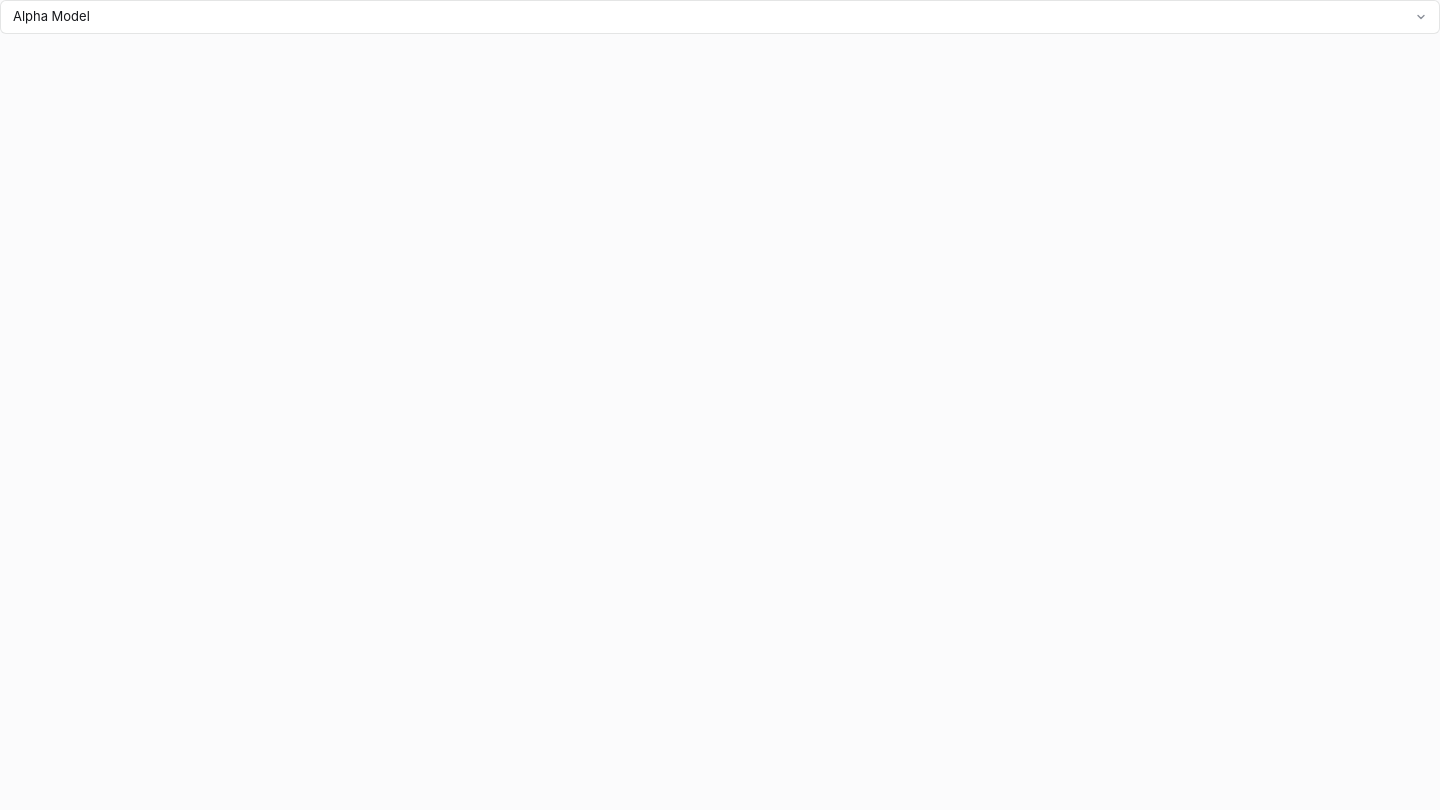
Test case: KilnSelect in-DOM dropdown › opens on click, selects an option, and closes without native select
Click the dropdown named "主模型选择". click: (51, 16)
box: [0, 0, 1439, 34]
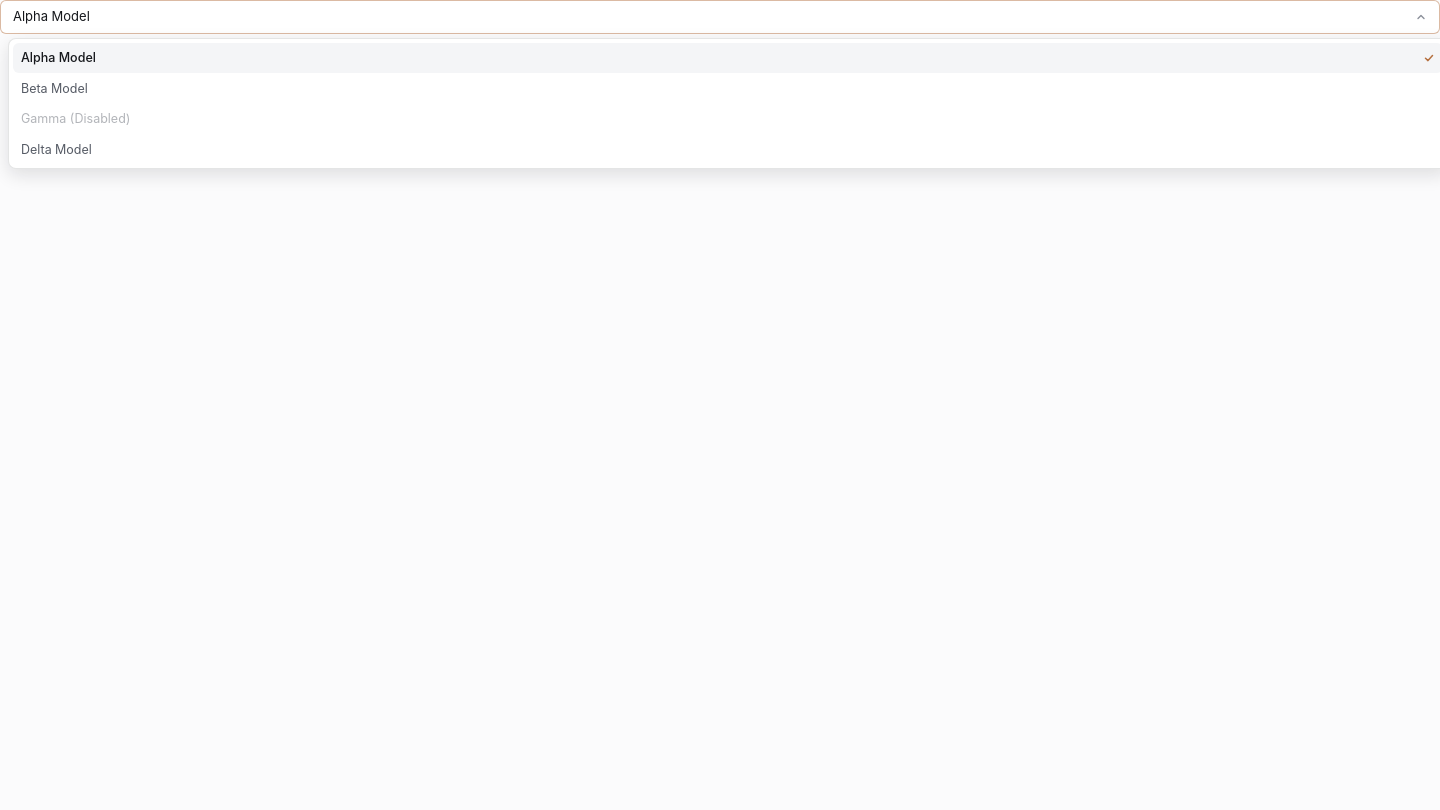
Click the option "Delta Model". click: (56, 149)
box: [13, 134, 1439, 164]
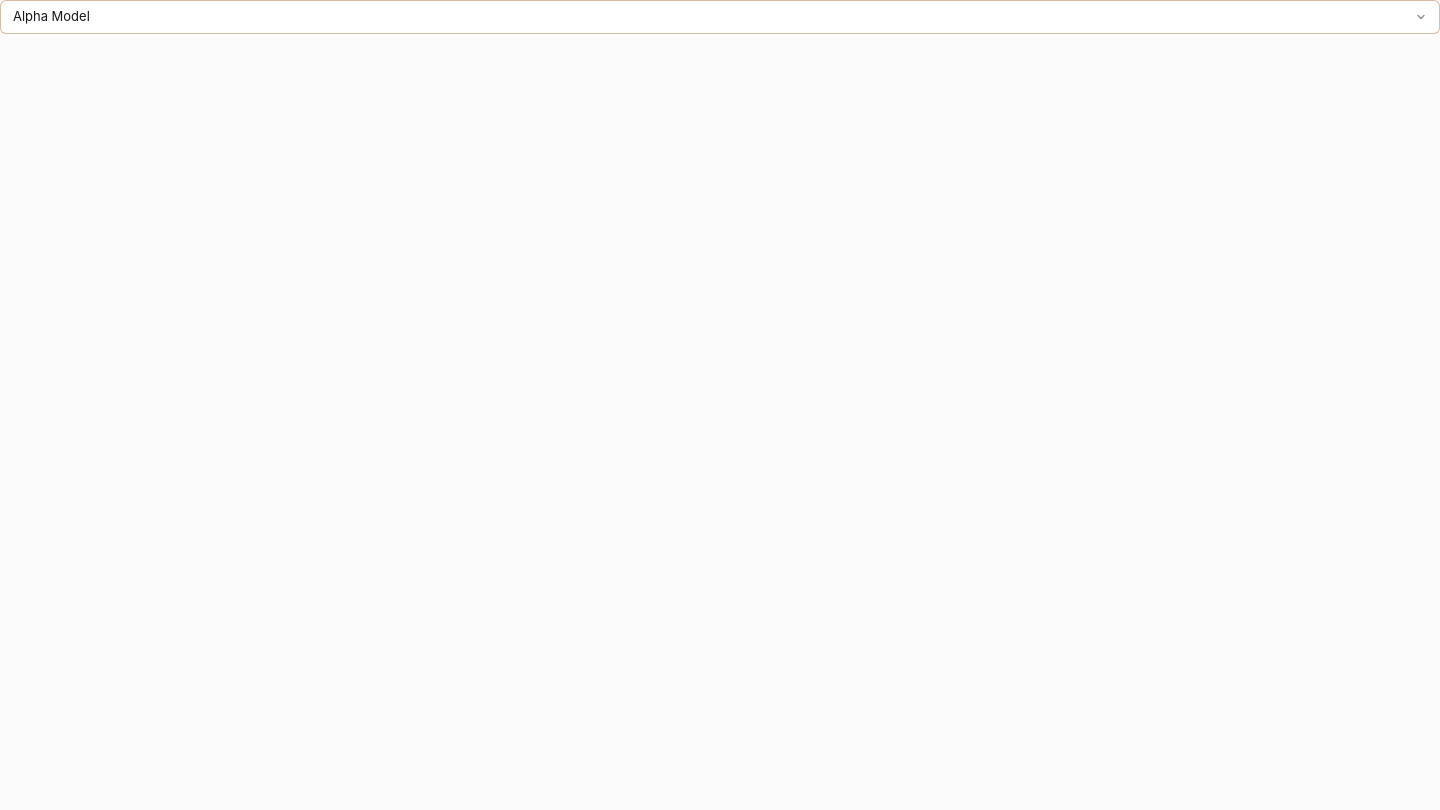
Check: the list is gone
